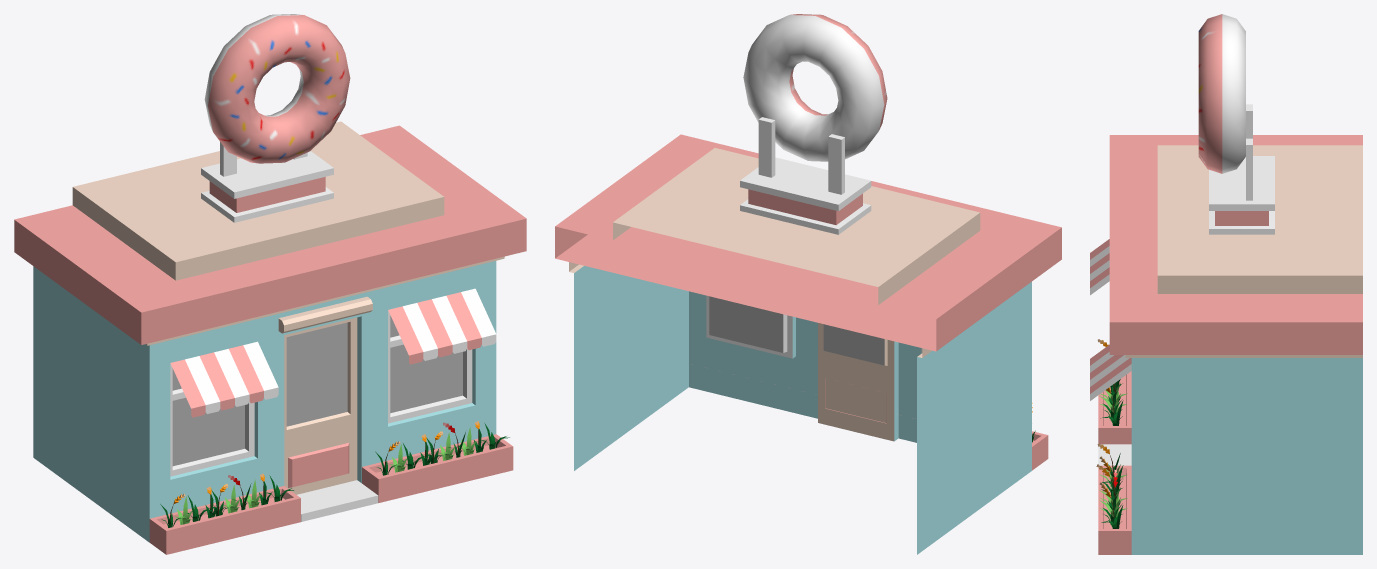
Rendered from donut_shop.fbx.
The picture shows the model from 3 angles, left to right: view 1: azimuth 30°, elevation 25°; view 2: azimuth 150°, elevation 25°; view 3: azimuth 270°, elevation 25°; orthographic projection.
Visible parts, largest first — view 1: donut_shop; view 2: donut_shop; view 3: donut_shop.
Boxes of the visible parts, bbox=[...] form: donut_shop: bbox=[14, 14, 526, 554]; donut_shop: bbox=[555, 14, 1061, 554]; donut_shop: bbox=[1090, 14, 1362, 554].
Bounding box in the file's own units: 667 × 747 × 411.
1 material, 1 textured.
